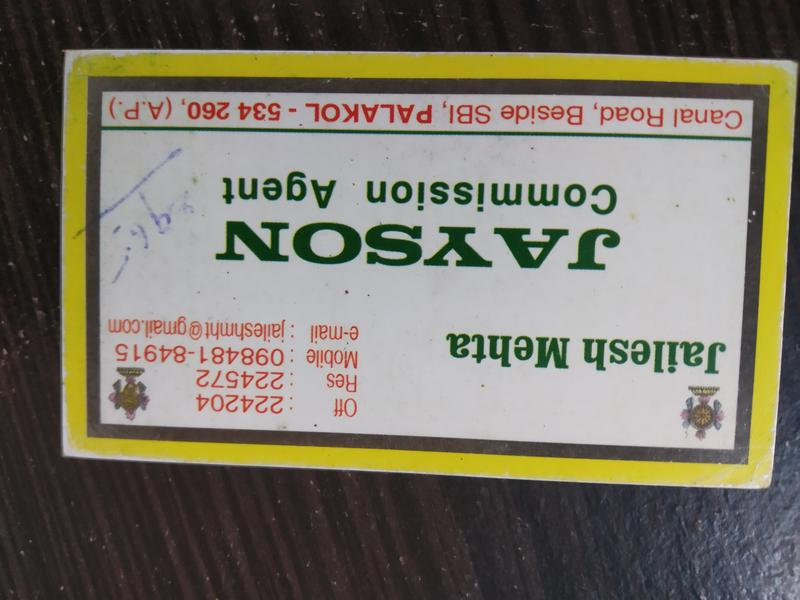card: (63, 50, 794, 488)
